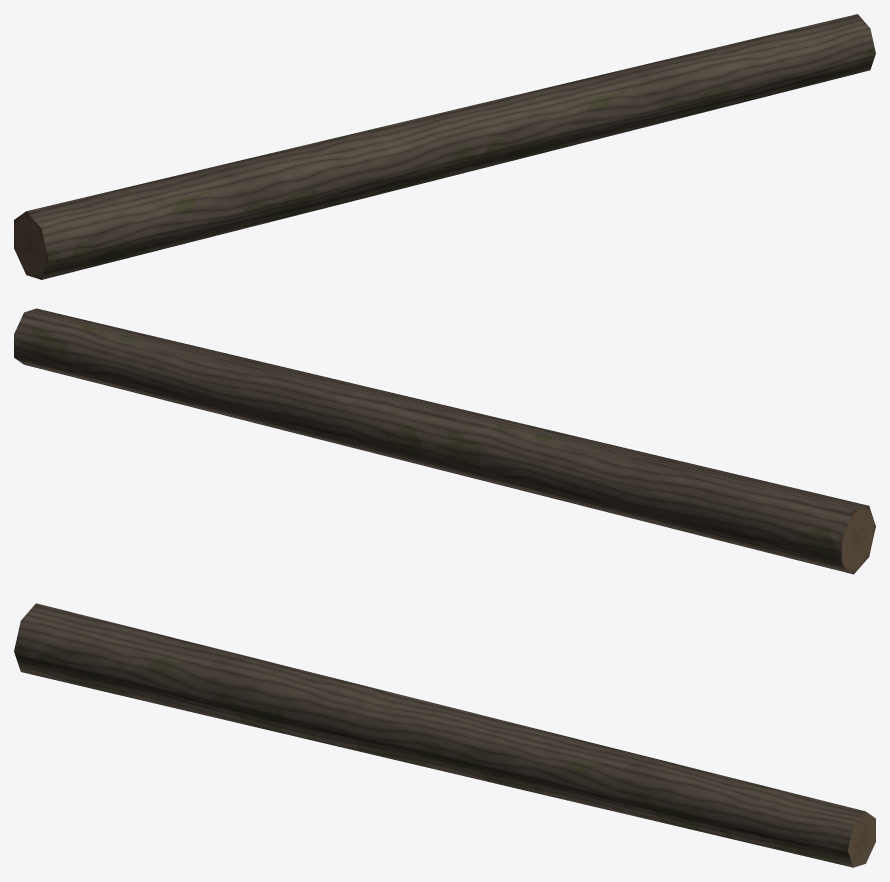
File: S7U_FallenLog_A.fbx
3 views of the same model, one above another, from view 1: azimuth 30°, elevation 25°; view 2: azimuth 150°, elevation 25°; view 3: azimuth 330°, elevation 25° (orthographic).
Parts seen in each view (by area): view 1: S7U_FallenLog_A; view 2: S7U_FallenLog_A; view 3: S7U_FallenLog_A.
Boxes of the visible parts, x1,y1,x2,y2 form: S7U_FallenLog_A: (14,14,875,279); S7U_FallenLog_A: (14,308,875,574); S7U_FallenLog_A: (14,603,875,867).
Bounding box in the file's own units: 4 × 0.2939 × 0.2865.
